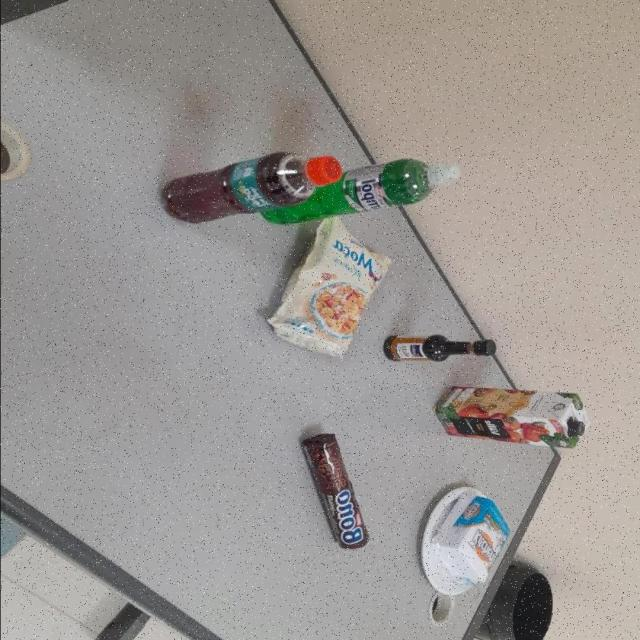Cleaner: (257, 158, 459, 225)
Cookies: (298, 431, 367, 551)
CornFlakes: (261, 218, 388, 357)
EnglishSauce: (382, 333, 495, 362)
IceTea: (161, 152, 341, 224)
